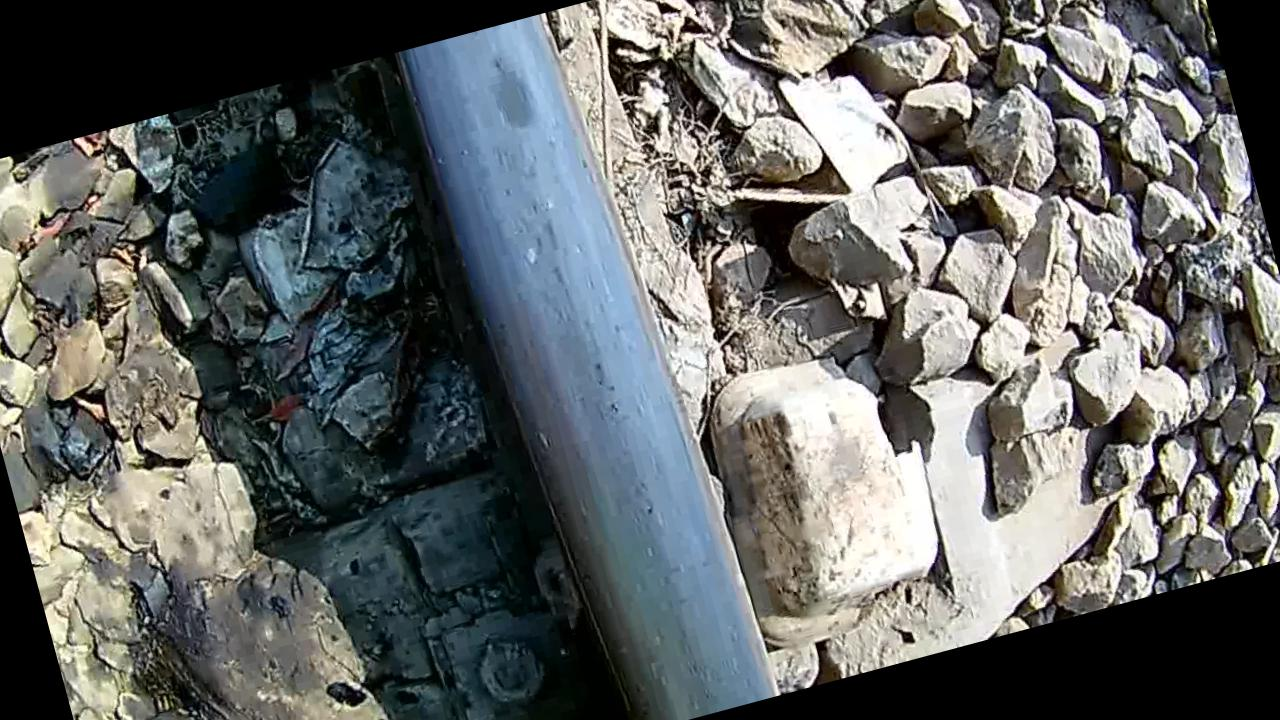bolt_missing: (392, 12, 606, 282)
